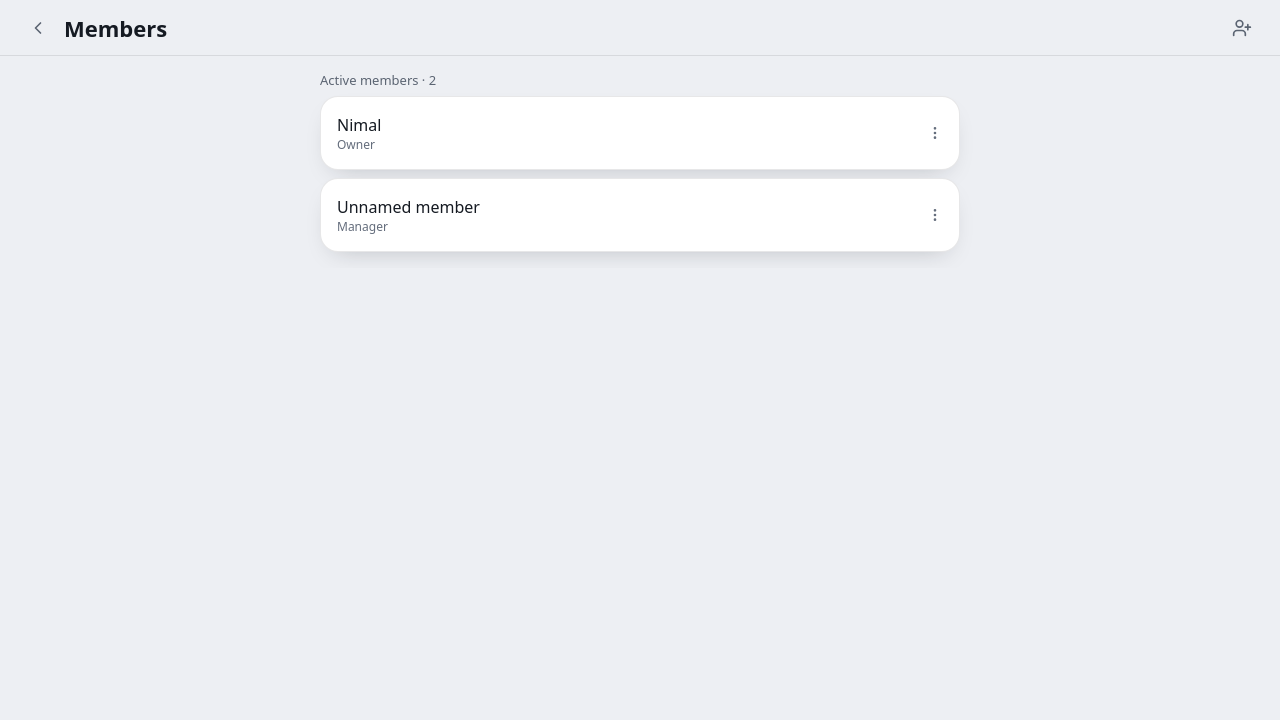
UI-8: owner creates an owner-manager invite and sees the one-time code
The width and height of the screenshot is (1280, 720).
Click the button named "Invite member" at [1242, 28], box [1220, 6, 1264, 50]
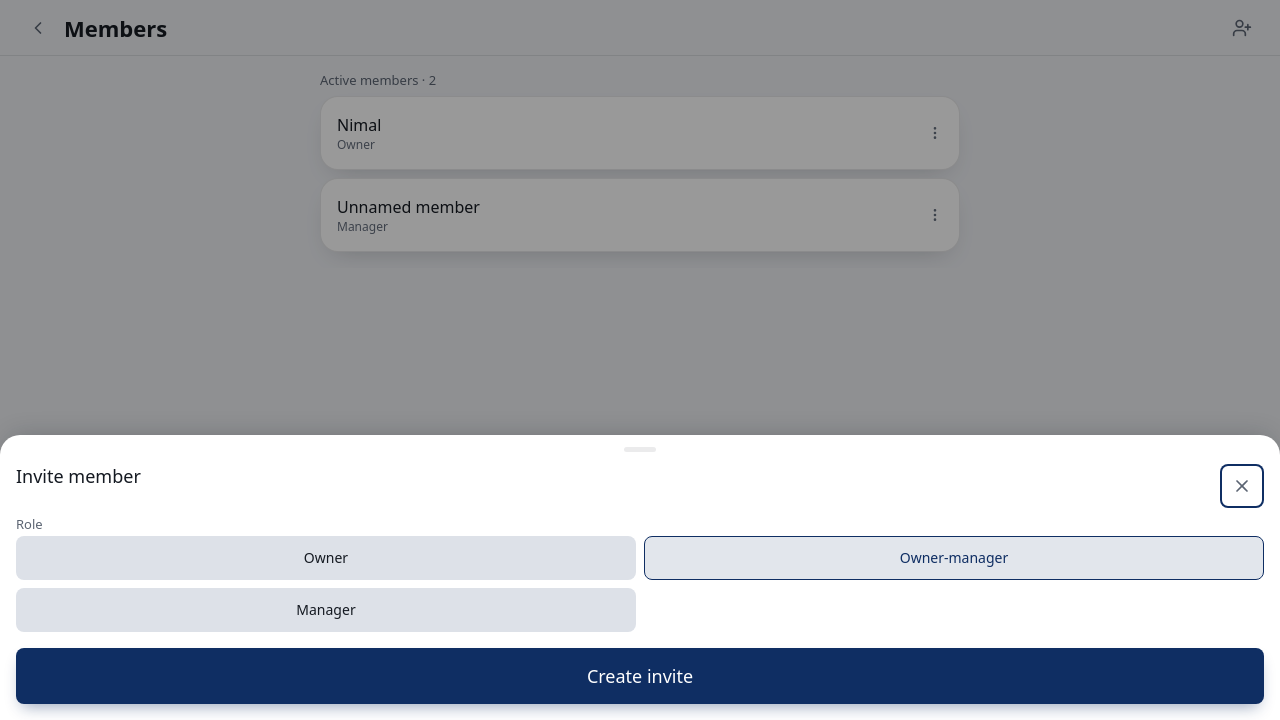
Click the button "Create invite" at [640, 676], box [16, 648, 1264, 704]
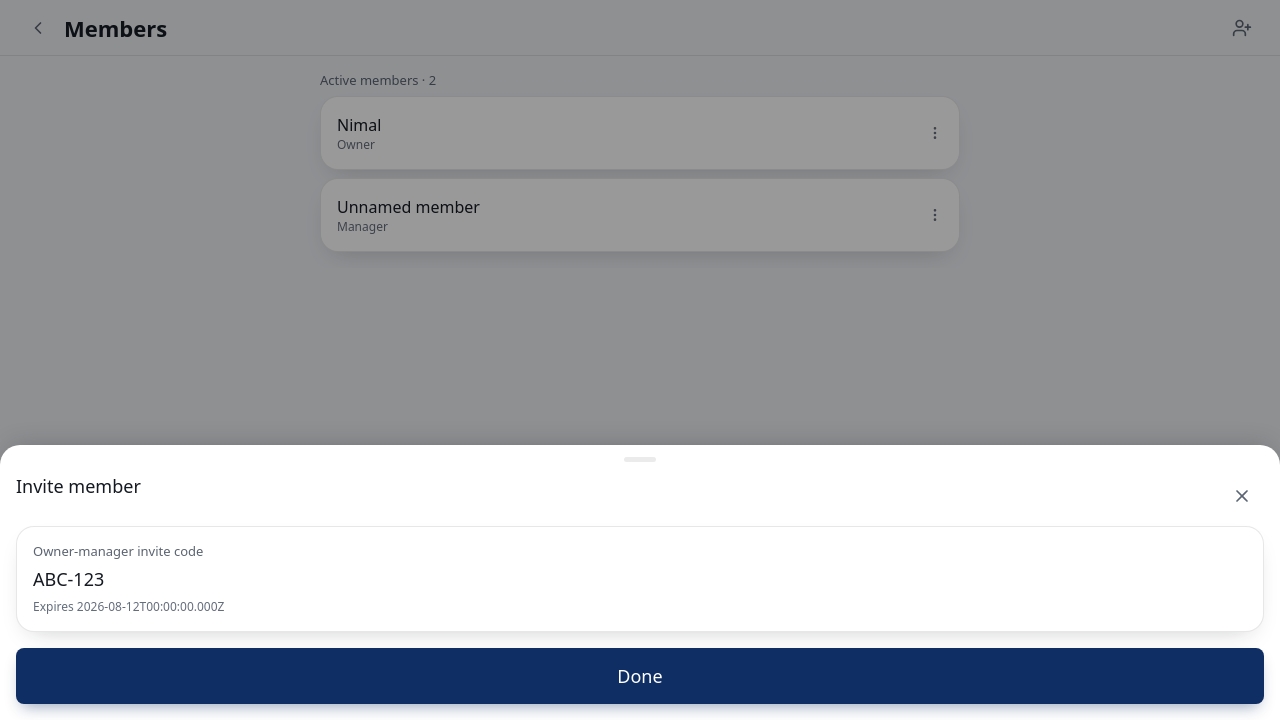
Now the text "ABC-123" is shown, box [33, 567, 104, 591]
